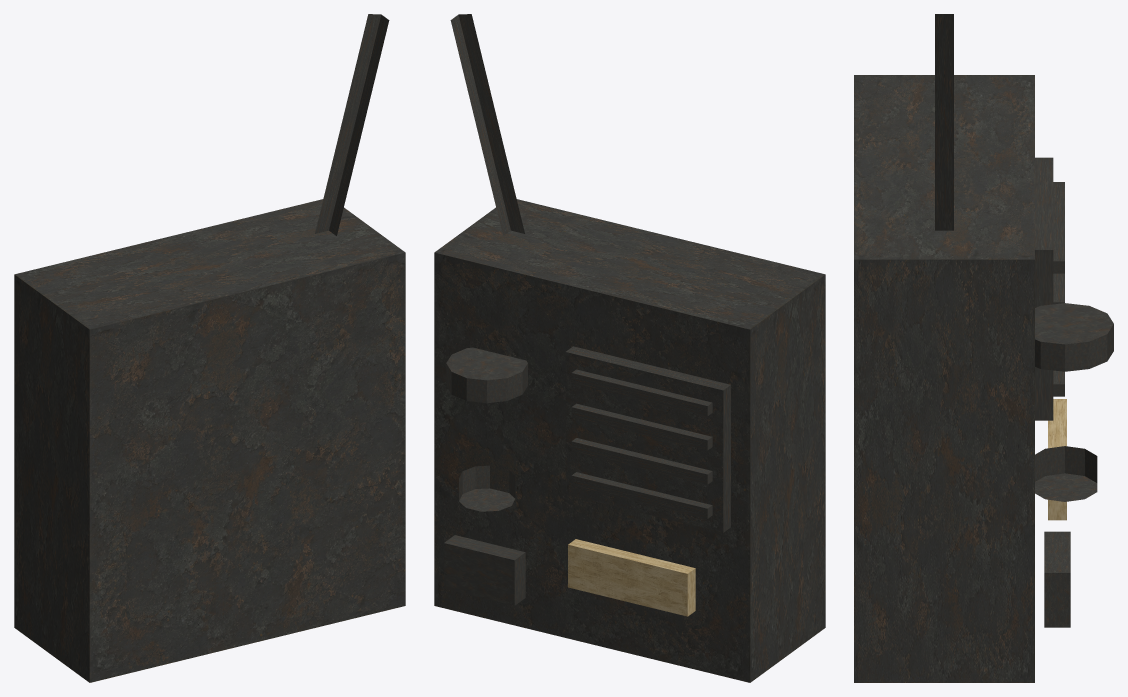
File: PRP_RADIO_001.obj
The picture shows the model from 3 angles, left to right: view 1: azimuth 30°, elevation 25°; view 2: azimuth 150°, elevation 25°; view 3: azimuth 270°, elevation 25°; orthographic projection. The views are drawn at different scales.
Parts seen in each view (by area): view 1: RadioBody, Antenna; view 2: RadioBody, SpeakerRecess, SpeakerBar, StateDisplay, Antenna, KeyedBatterySocket, OversizeTuningDial, PowerDial; view 3: RadioBody, OversizeTuningDial, Antenna, SpeakerRecess, PowerDial, KeyedBatterySocket, SpeakerBar, StateDisplay.
Part boxes in pixels (x1=…): RadioBody: x1=14, y1=199, x2=405, y2=682; Antenna: x1=315, y1=14, x2=389, y2=235; RadioBody: x1=434, y1=199, x2=825, y2=682; SpeakerRecess: x1=565, y1=346, x2=730, y2=532; SpeakerBar: x1=571, y1=369, x2=712, y2=518; StateDisplay: x1=568, y1=539, x2=695, y2=616; Antenna: x1=450, y1=14, x2=524, y2=235; KeyedBatterySocket: x1=444, y1=535, x2=525, y2=605; OversizeTuningDial: x1=446, y1=347, x2=527, y2=403; PowerDial: x1=459, y1=465, x2=515, y2=511; RadioBody: x1=854, y1=75, x2=1034, y2=682; OversizeTuningDial: x1=1035, y1=303, x2=1113, y2=371; Antenna: x1=935, y1=14, x2=953, y2=230; SpeakerRecess: x1=1035, y1=157, x2=1053, y2=420; PowerDial: x1=1035, y1=446, x2=1097, y2=501; KeyedBatterySocket: x1=1044, y1=531, x2=1070, y2=627; SpeakerBar: x1=1053, y1=182, x2=1064, y2=396; StateDisplay: x1=1048, y1=399, x2=1066, y2=520.
Bounding box in the file's own units: 0.6121 × 0.9833 × 0.345.
2 materials, 2 textured.
